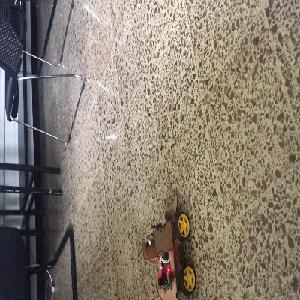Robot: (142, 195, 196, 299)
